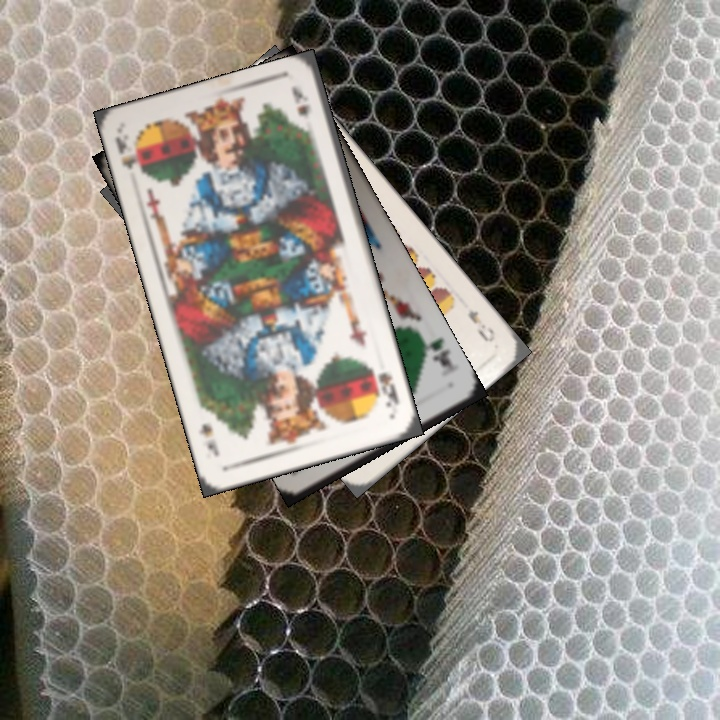E9: (464, 306, 498, 345)
GK: (417, 334, 455, 372)
SK: (111, 132, 146, 176), (374, 368, 402, 410)
